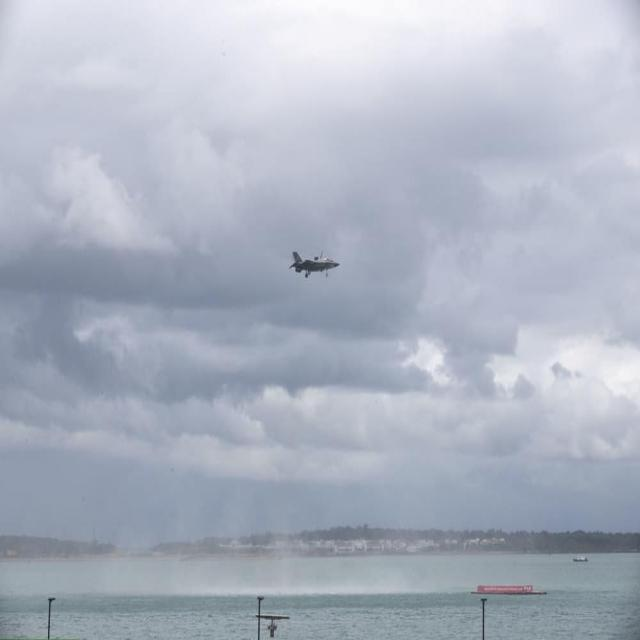MIL_Plane: (288, 250, 340, 278)
